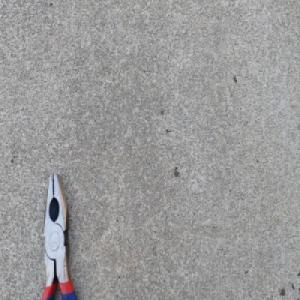Pliers: (39, 169, 78, 300)
